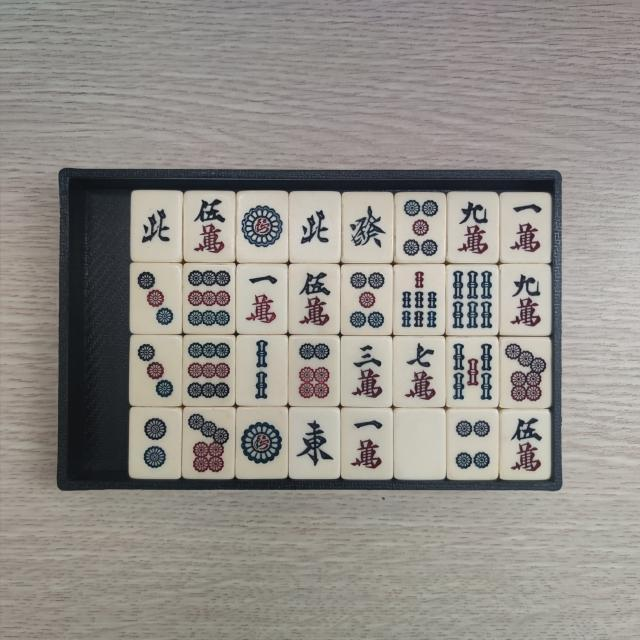hdg: (345, 197, 389, 260)
hdw: (401, 413, 442, 474)
hwe: (293, 414, 337, 476)
hwn: (295, 198, 336, 260), (136, 194, 176, 256)
sb2: (242, 339, 286, 403)
sb5: (450, 340, 494, 403)
sb6: (453, 268, 497, 331)
sb7: (398, 270, 441, 332)
sc1: (346, 414, 388, 475), (242, 268, 282, 329), (506, 196, 546, 257)
sc3: (346, 339, 388, 401)
sc5: (188, 195, 232, 258), (294, 268, 336, 332), (506, 414, 547, 478)
sc7: (400, 340, 440, 402)
sc9: (506, 269, 546, 331), (454, 196, 494, 257)
sd1: (239, 195, 285, 258), (241, 413, 286, 476)
sd2: (135, 412, 177, 474)
sd3: (132, 341, 178, 404), (133, 266, 178, 330)
sd4: (452, 413, 493, 475)
sd5: (345, 268, 388, 331), (400, 196, 443, 258)
sd6: (296, 339, 336, 402)
sd7: (186, 412, 232, 477), (505, 340, 549, 404)
sd9: (187, 339, 234, 403), (187, 267, 234, 330)
